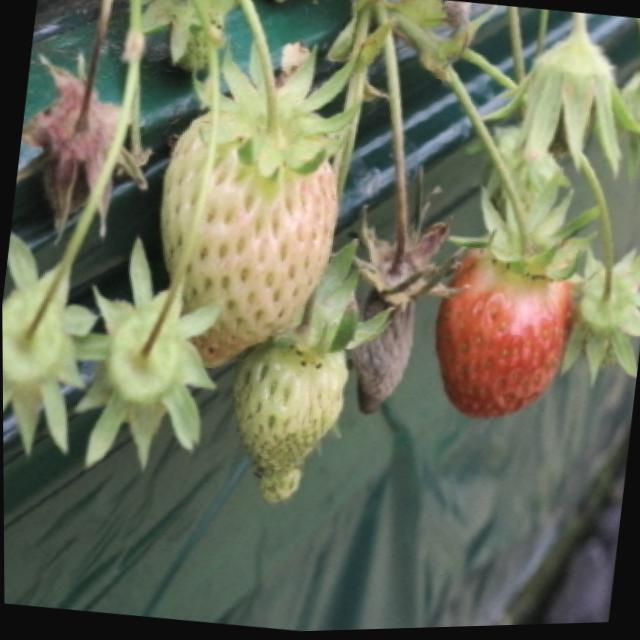Gray Mold: (347, 208, 468, 413)
